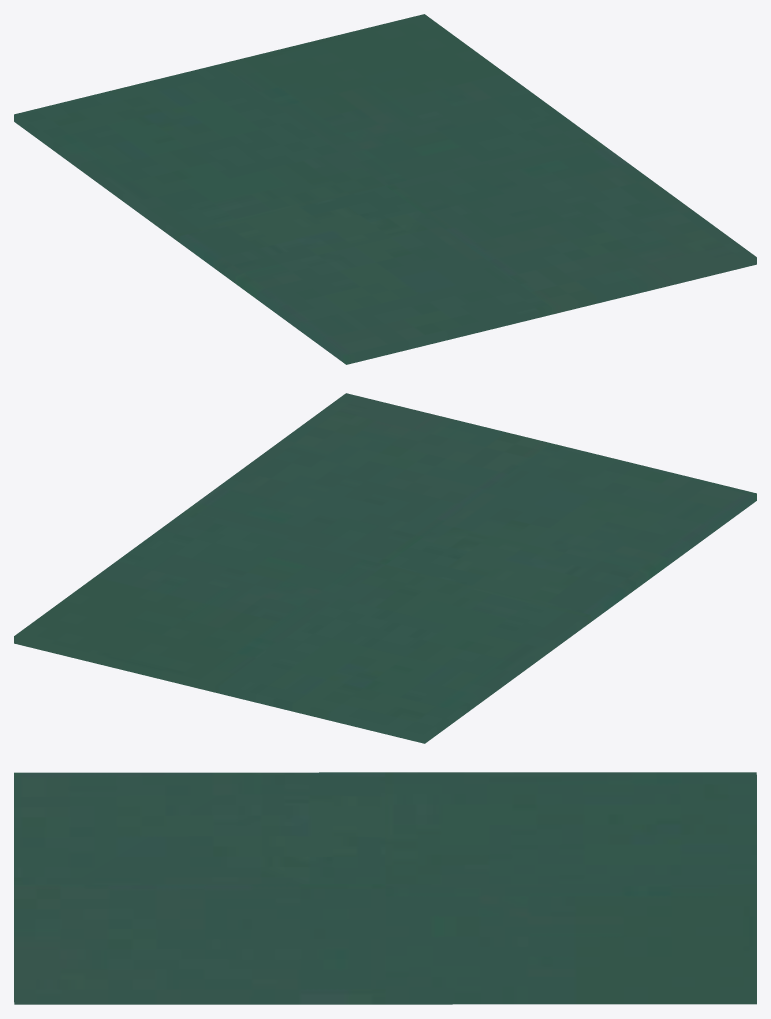
The picture shows the model from 3 angles, top to bottom: view 1: azimuth 30°, elevation 25°; view 2: azimuth 150°, elevation 25°; view 3: azimuth 270°, elevation 25°; orthographic projection. The views are drawn at different scales.
Visible parts, largest first — view 1: 3043627270437063741_0; view 2: 3043627270437063741_0; view 3: 3043627270437063741_0.
Boxes of the visible parts, x1,y1,x2,y2 form: 3043627270437063741_0: (14, 14, 756, 364); 3043627270437063741_0: (14, 393, 756, 743); 3043627270437063741_0: (14, 772, 756, 1004).
Bounding box in the file's own units: 54.63 × 1.24 × 76.53.
1 material, 1 textured.
